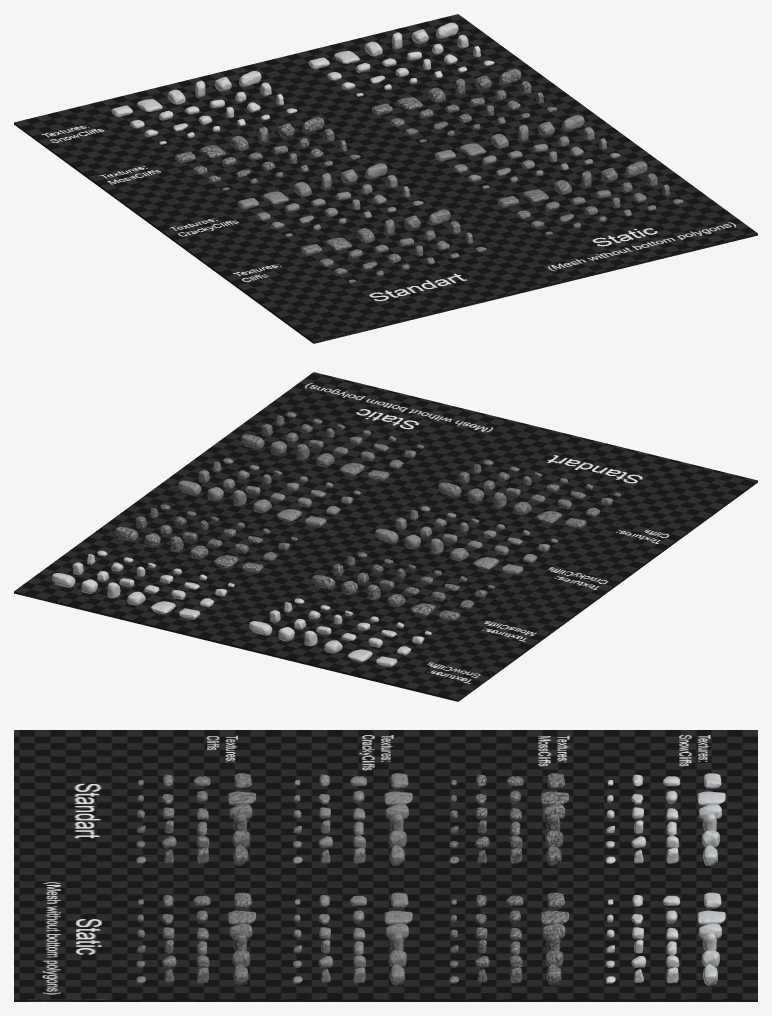
Rendered from rocks.glb.
3 renders of one model, top to bottom at view 1: azimuth 30°, elevation 25°; view 2: azimuth 150°, elevation 25°; view 3: azimuth 270°, elevation 25°, orthographic. The views are drawn at different scales.
Visible parts, largest first — view 1: Ground; view 2: Ground; view 3: Ground.
Boxes of the visible parts, <box> form: Ground: <box>14,14,757,343</box>; Ground: <box>14,372,757,701</box>; Ground: <box>14,730,757,1001</box>.
Size of the model in its own units: 44.07 by 1.54 by 51.49.
5 materials, 5 textured.
